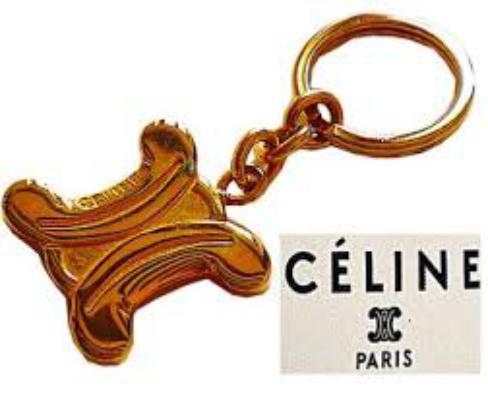CELINE: (290, 233, 484, 309)
